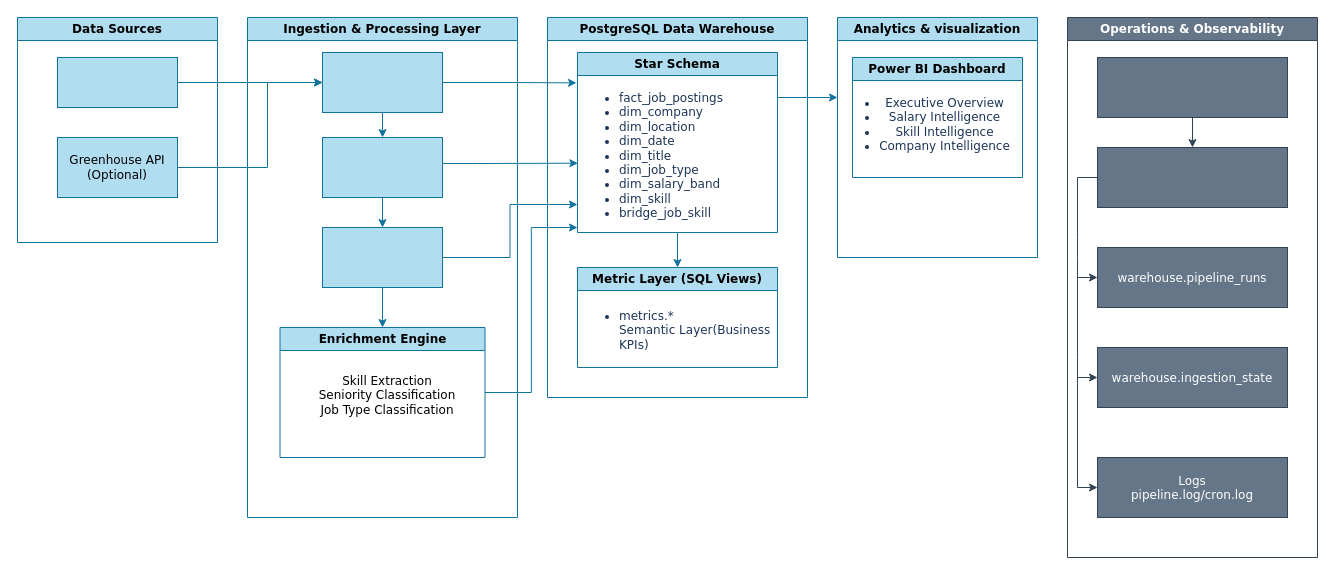
Image size: 1335x575. Some labels were removed from this diagram. The shapes that lost their labels are listed below. From the top down, each one's centre as x and y in pixels, then its label:
At (117,82): "Adzuna API".
At (382,82): "Python Ingestion Scripts".
At (1192,87): "Cron Scheduler".
At (382,167): "Raw Storage ( raw.jobs_gold )".
At (1192,177): "Pipeline Runner".
At (382,257): "Normalization Layer".
